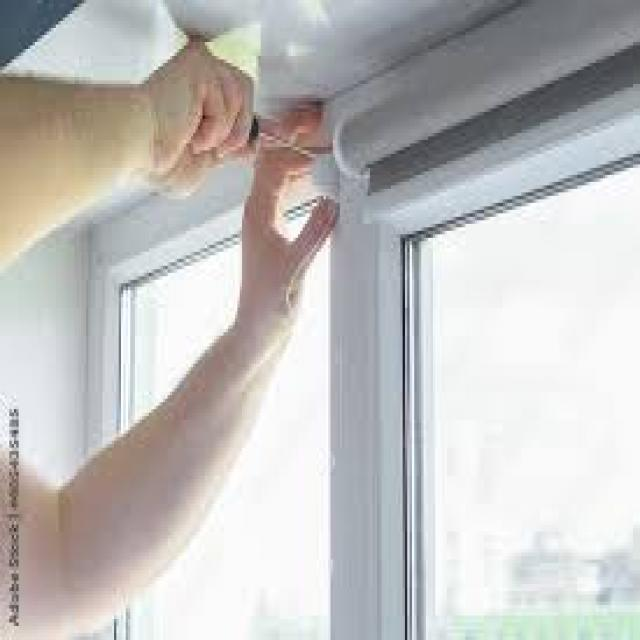screwdriver: (202, 96, 344, 187)
